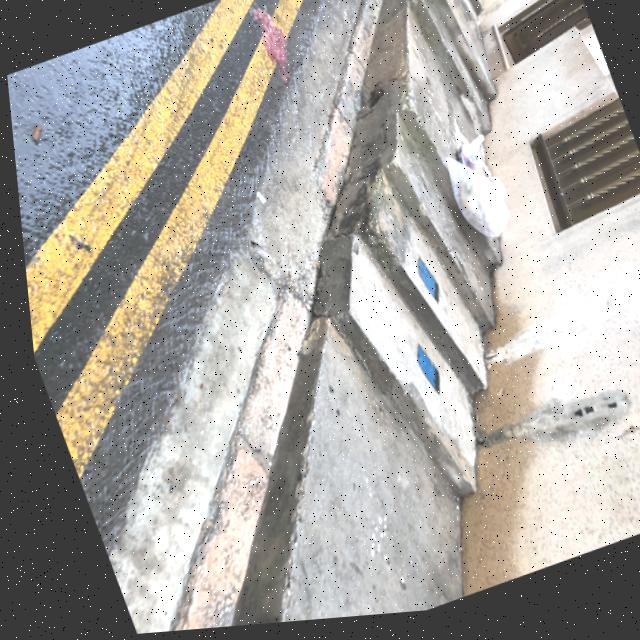Organic Waste -White Bag-: (434, 147, 515, 256), (448, 141, 496, 195)
